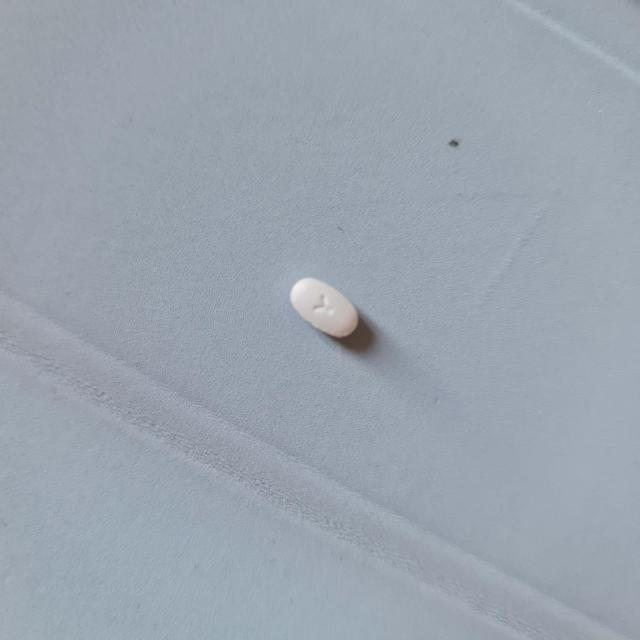pill: (292, 278, 360, 338)
